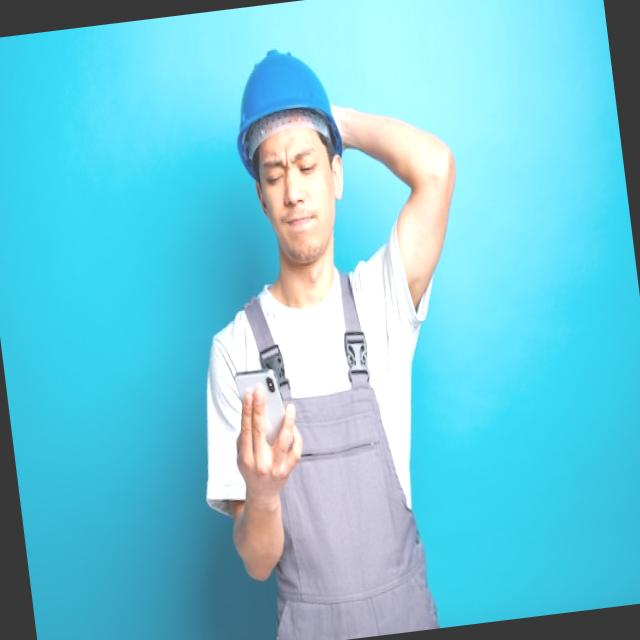helmet: (222, 34, 346, 184)
no-goggles: (240, 128, 345, 206)
no-vest: (208, 258, 443, 640)
